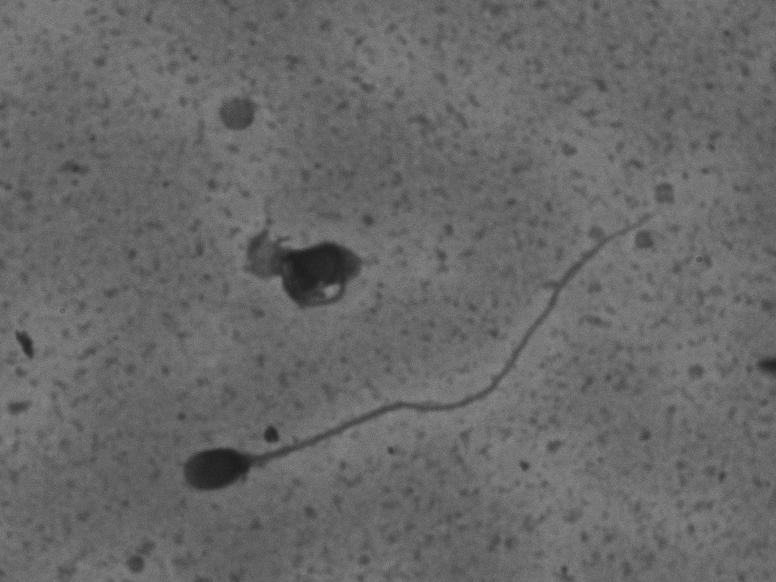Abnormal: (198, 194, 409, 340)
Normal: (173, 197, 683, 500)
